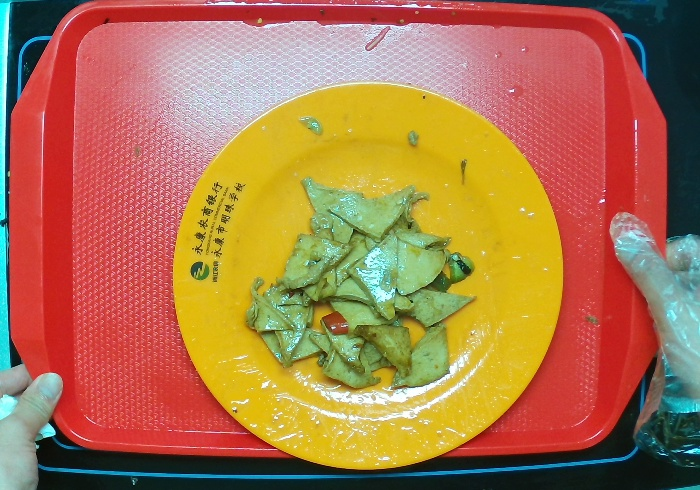YKMZ-Ju_Se_Mian_Pan: (152, 64, 581, 481)
